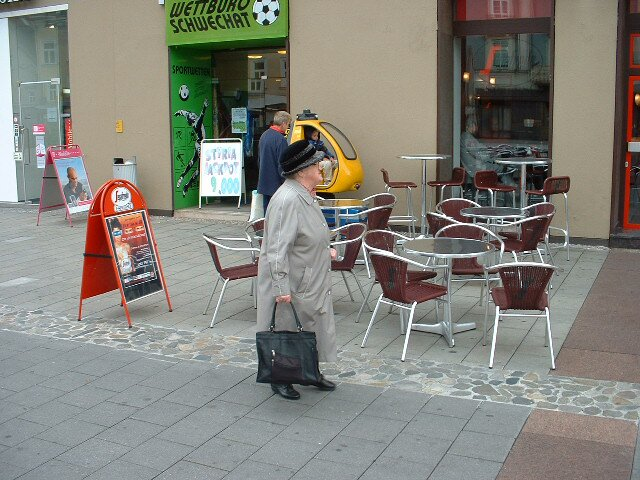person: (250, 135, 351, 400)
